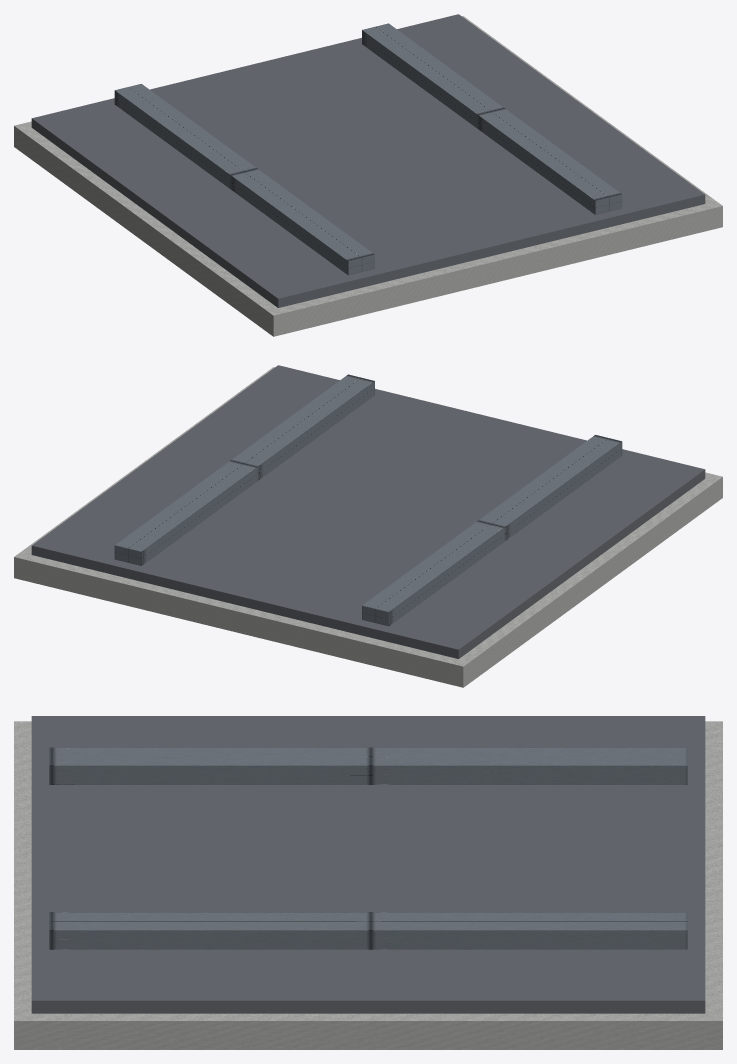
The model's file is fire-and-emergency-services-station-roof-panel-ca3e752c__29885.glb.
The picture shows the model from 3 angles, top to bottom: view 1: azimuth 30°, elevation 25°; view 2: azimuth 150°, elevation 25°; view 3: azimuth 270°, elevation 25°; orthographic projection. The views are drawn at different scales.
Visible parts, largest first — view 1: station-roof-panel; view 2: station-roof-panel; view 3: station-roof-panel.
Boxes of the visible parts, <box> form: station-roof-panel: <box>14,14,722,336</box>; station-roof-panel: <box>14,365,722,687</box>; station-roof-panel: <box>14,716,722,1049</box>.
Size of the model in its own units: 4 by 0.3801 by 4.
Materials: 3 (2 with a texture image).
